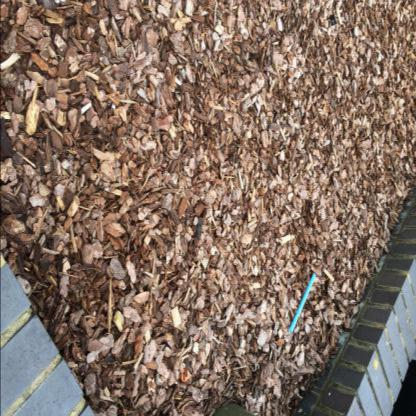Bottle: (330, 14, 337, 26), (352, 27, 358, 37)
Straw: (289, 273, 316, 333)
